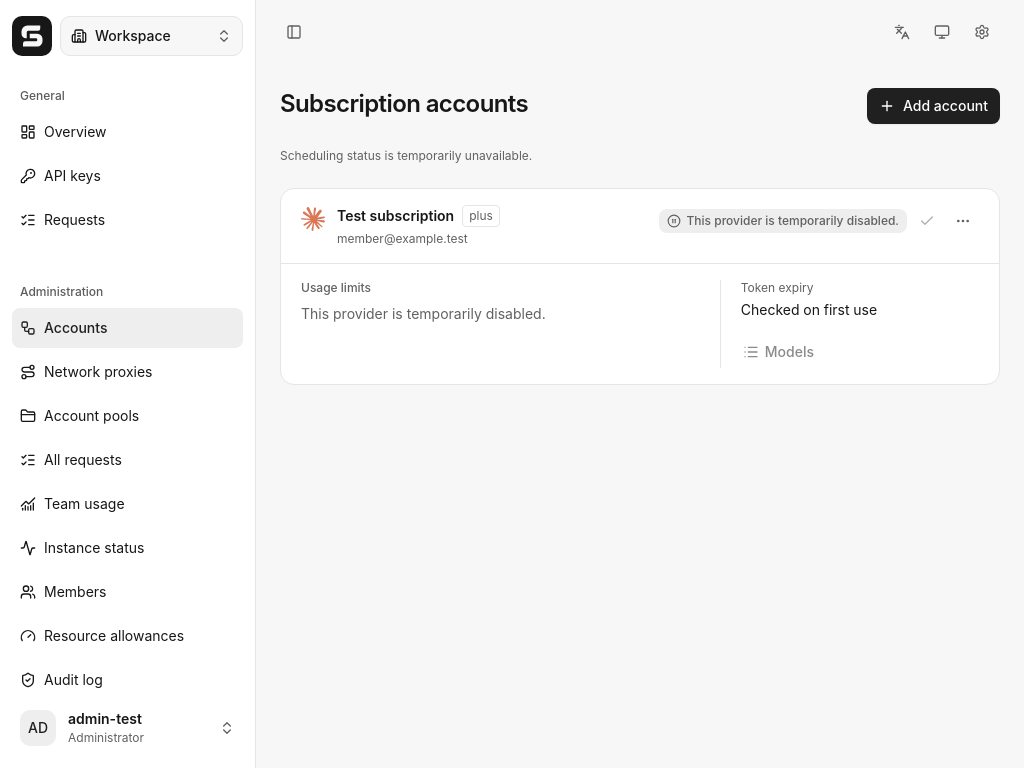
shows a stored legacy account as unavailable without reconnect actions
The width and height of the screenshot is (1024, 768).
Expected: the text "This provider is temporarily disabled." is shown 2 times, [658, 209, 907, 233]; [301, 305, 546, 322]
Expected: the button named "Verify connection for Test subscription" is disabled, [911, 205, 943, 237]
Click the button named "Actions for Test subscription" at (963, 221), box [947, 205, 979, 237]
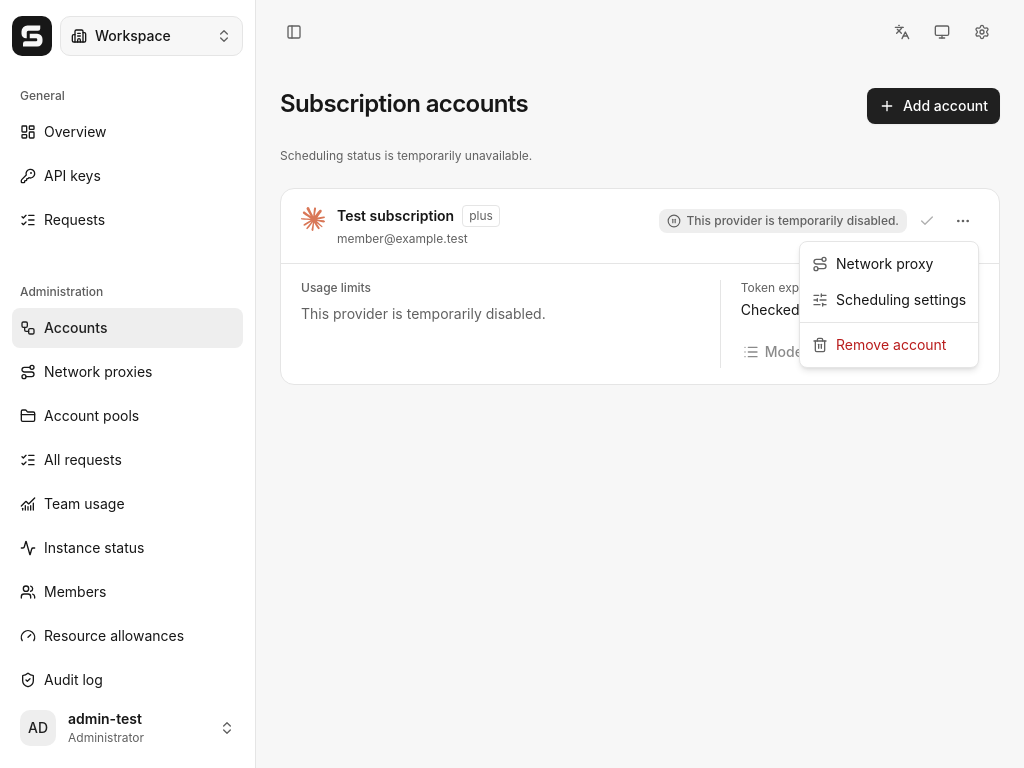
Expected: the menu item "Remove account" is shown, [812, 336, 946, 353]
